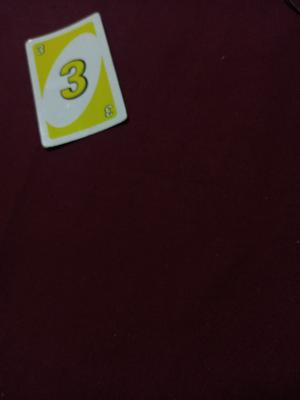yellow: (31, 43, 111, 123)
